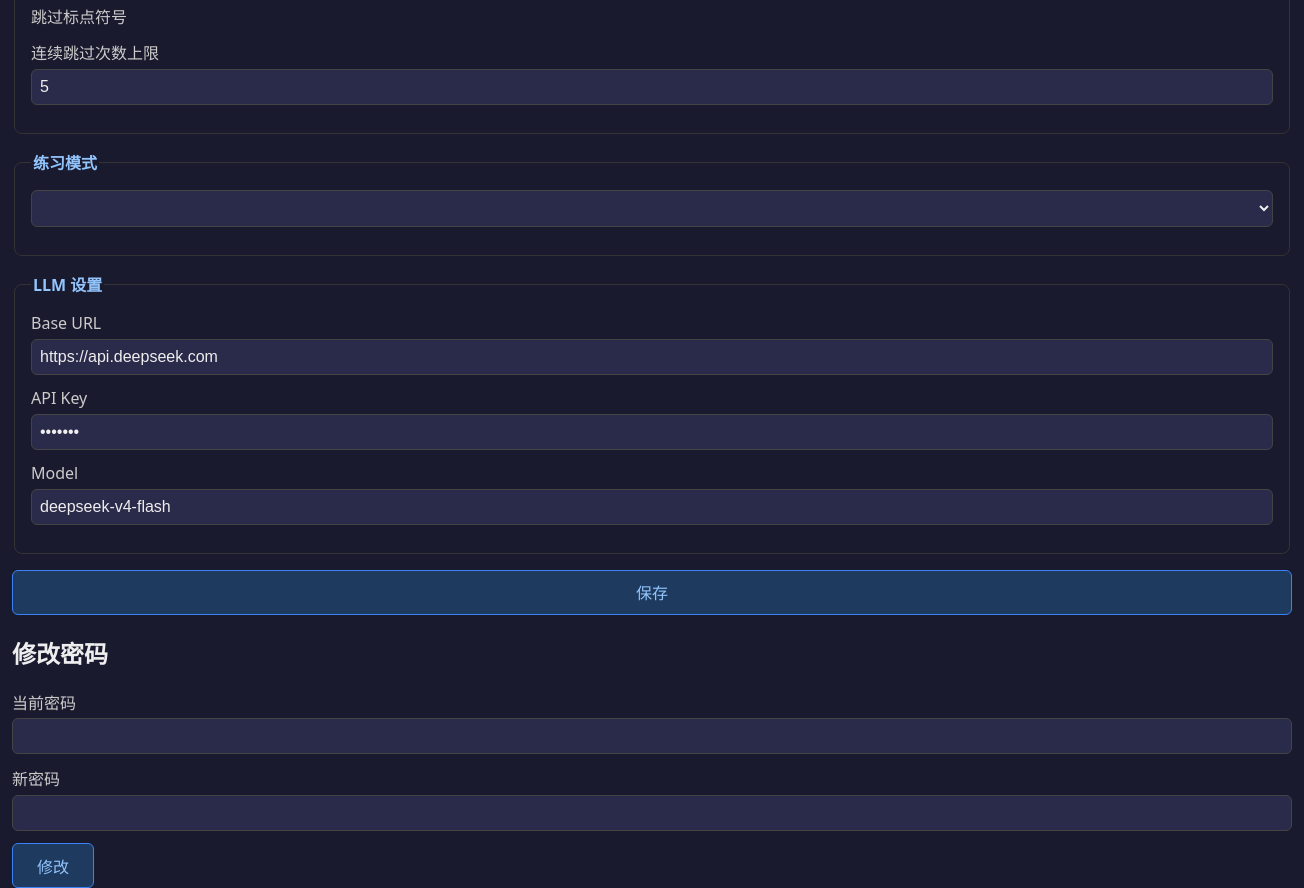
Scenario: SettingsPage — password change › shows password change section and submits
This screenshot has width=1304, height=888.
(page scrolled)
Expected: the element showing "修改密码 当前密码 新密码 修改" is shown, [12,635,1292,887]
Step 1. Type "oldpass" into the password field named "current-password" → (652, 736), box [12,718,1292,754]
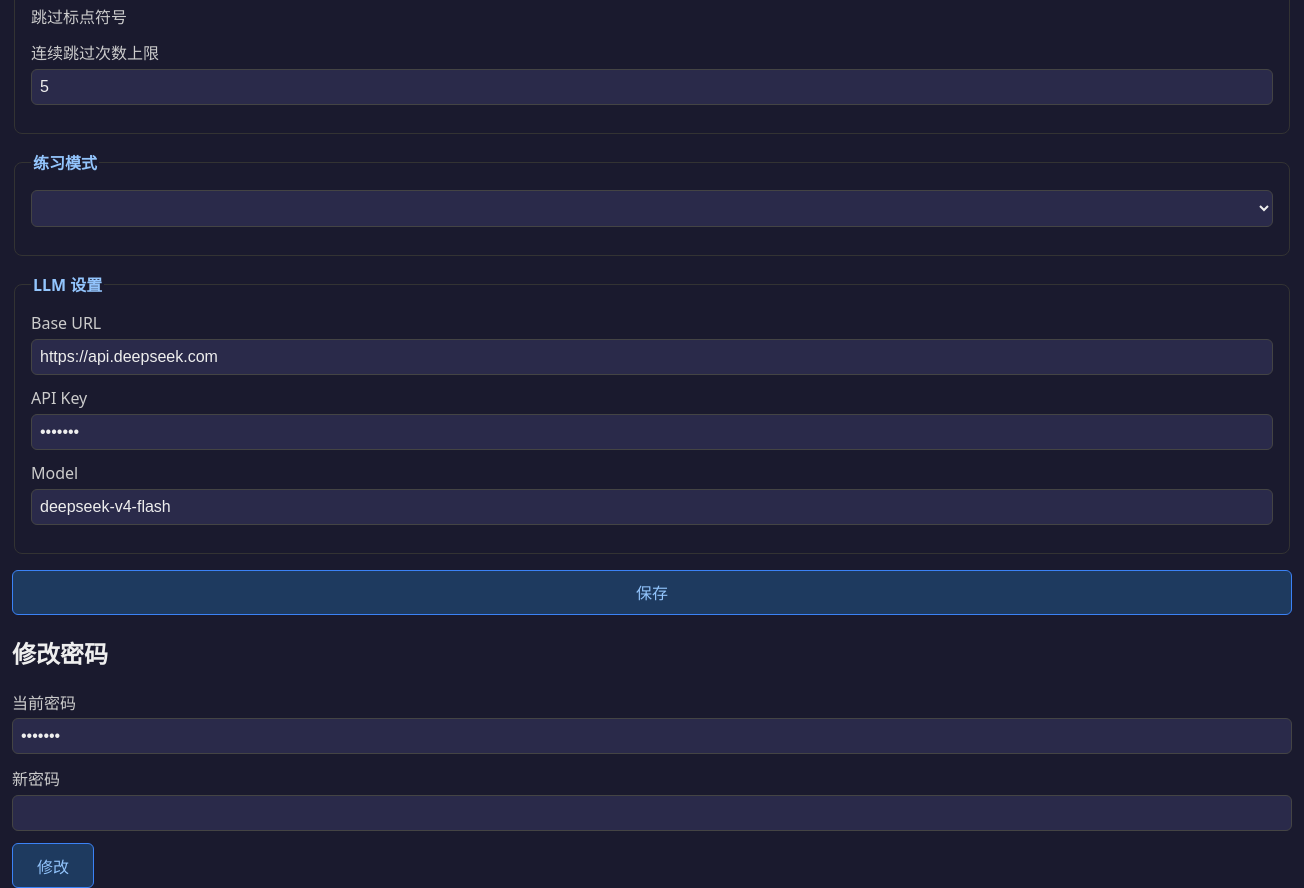
Step 2. Type "newpass" into the password field named "new-password" → (652, 813), box [12,795,1292,831]
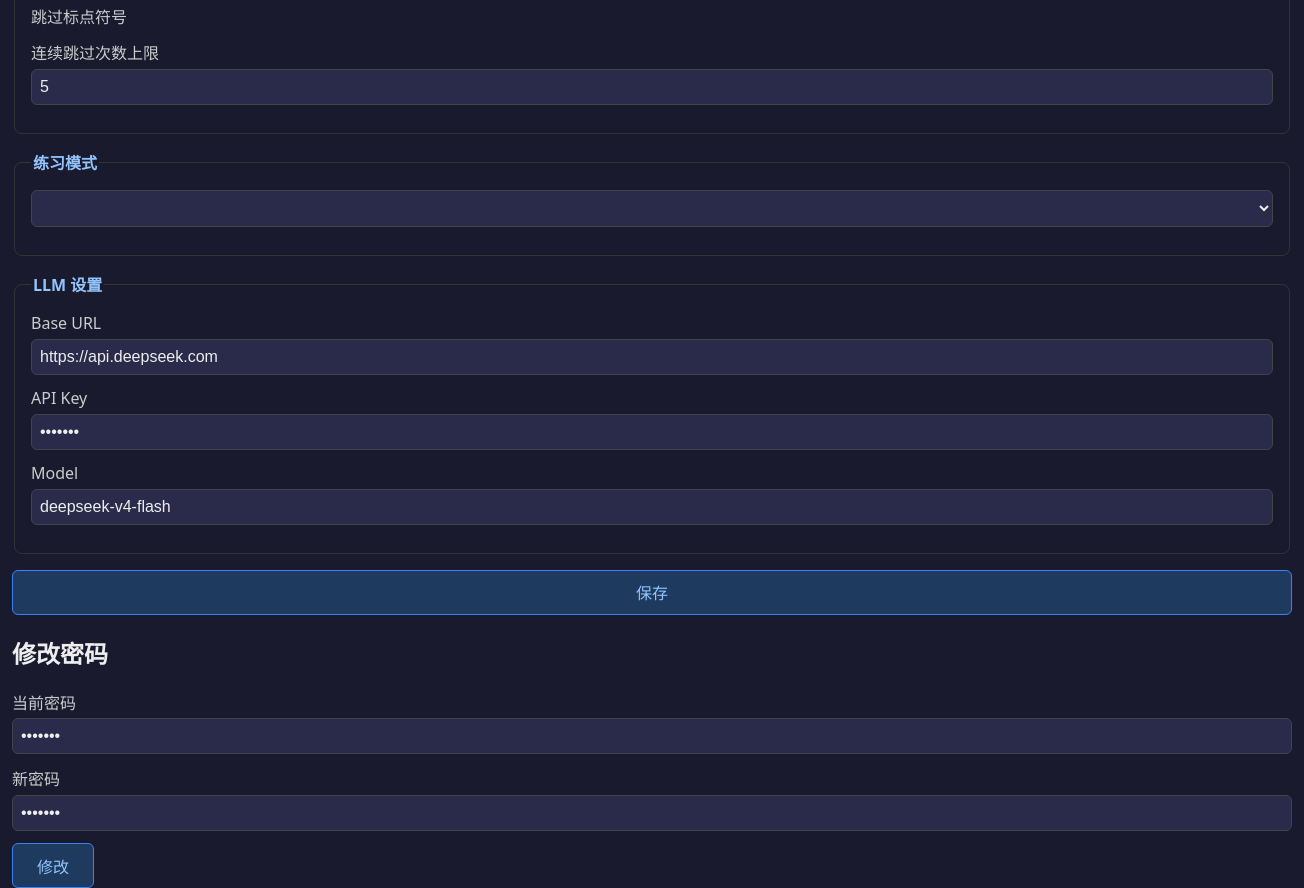
Step 3. Submit the form "当前密码 新密码 修改", box [12,690,1292,887]
(page scrolled)
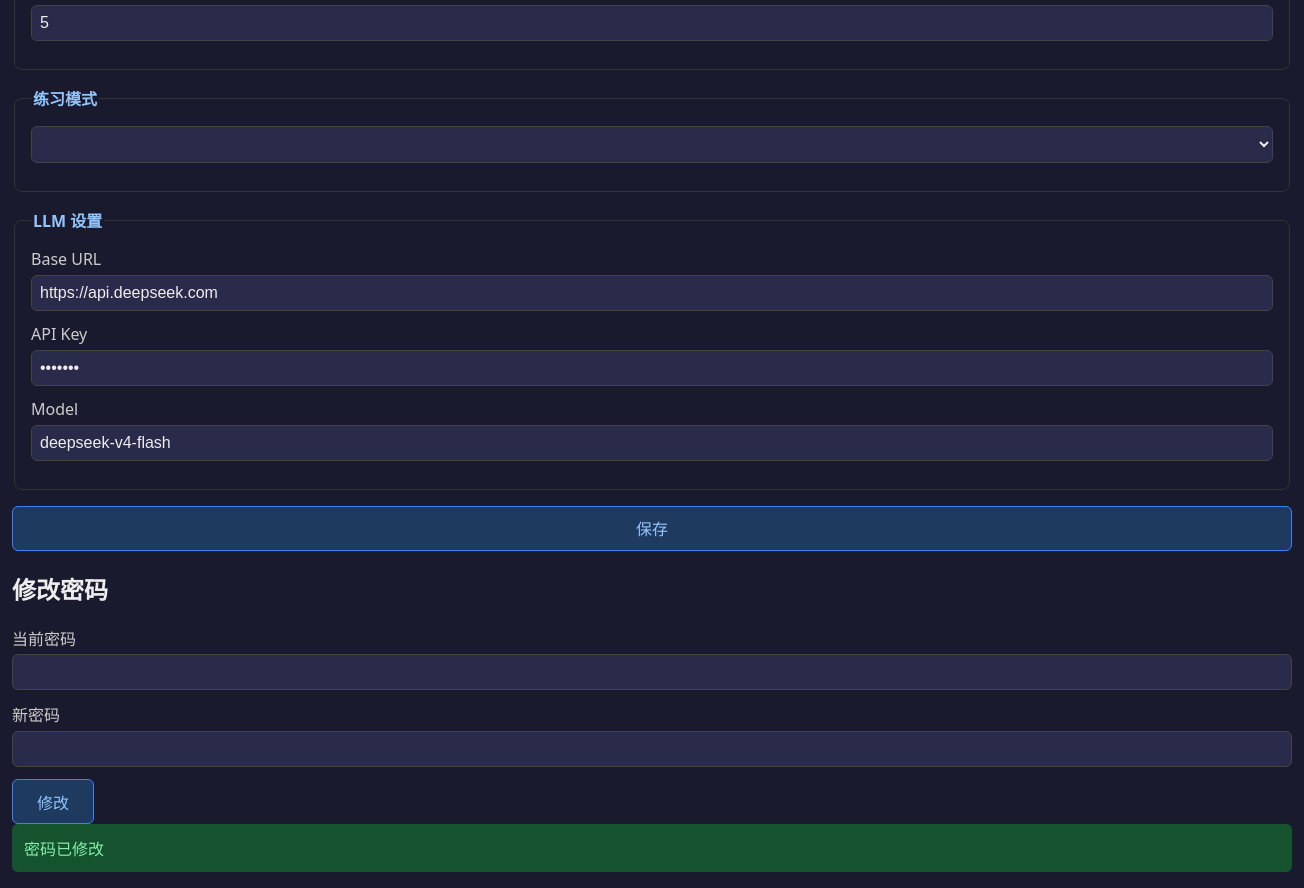
Expected: the text with class "success-banner" reads "密码已修改", [24,838,104,860]
